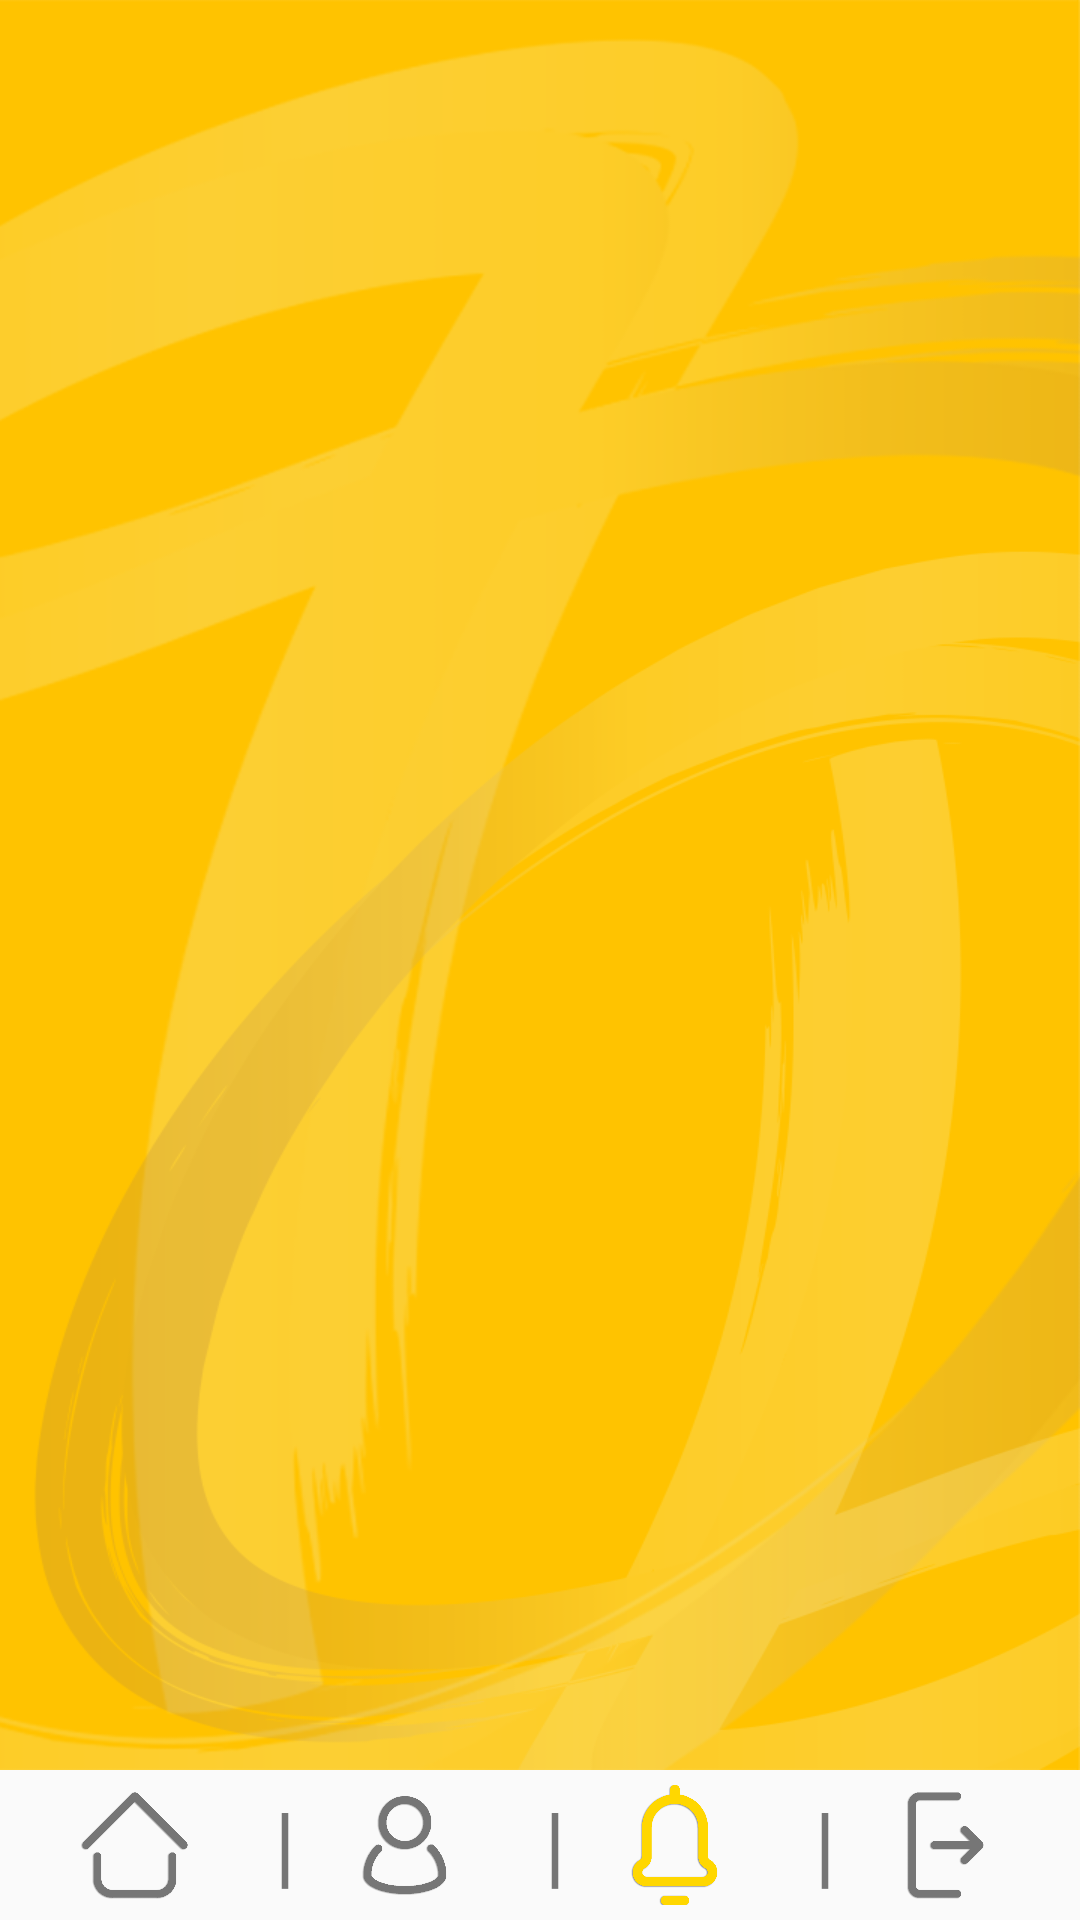

Icons on this 1080*1920 Android screen, each with its box as region(x1, y1, x2, y2):
home: region(81, 1792, 188, 1899)
notificationselect: region(632, 1785, 717, 1905)
